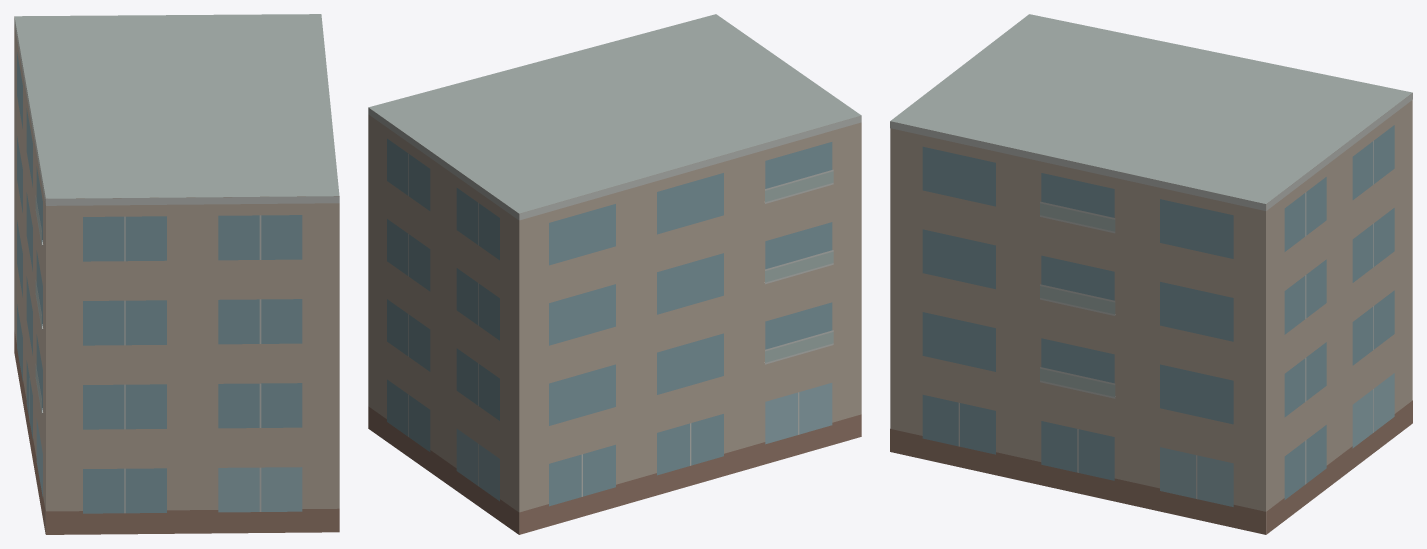
File: survey-upis-32670724.glb
The picture shows the model from 3 angles, left to right: view 1: azimuth 30°, elevation 25°; view 2: azimuth 150°, elevation 25°; view 3: azimuth 270°, elevation 25°; orthographic projection. The views are drawn at different scales.
Visible parts, largest first — view 1: survey-upis-32670724.tmp; view 2: survey-upis-32670724.tmp; view 3: survey-upis-32670724.tmp.
Part boxes in pixels (bbox=[...]): survey-upis-32670724.tmp: bbox=[14, 14, 339, 534]; survey-upis-32670724.tmp: bbox=[368, 14, 861, 534]; survey-upis-32670724.tmp: bbox=[890, 14, 1412, 534].
Size of the model in its own units: 14.06 by 11.4 by 16.34.
